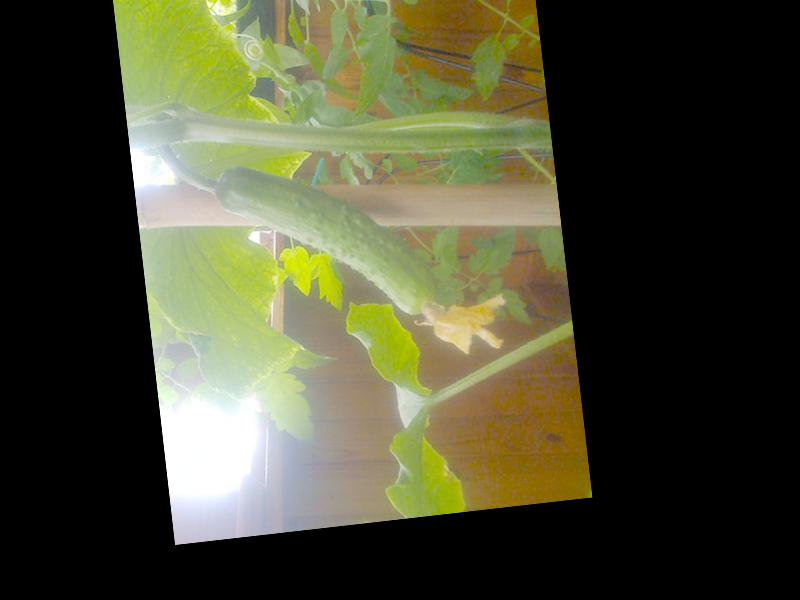Cucumber: (213, 139, 511, 382)
